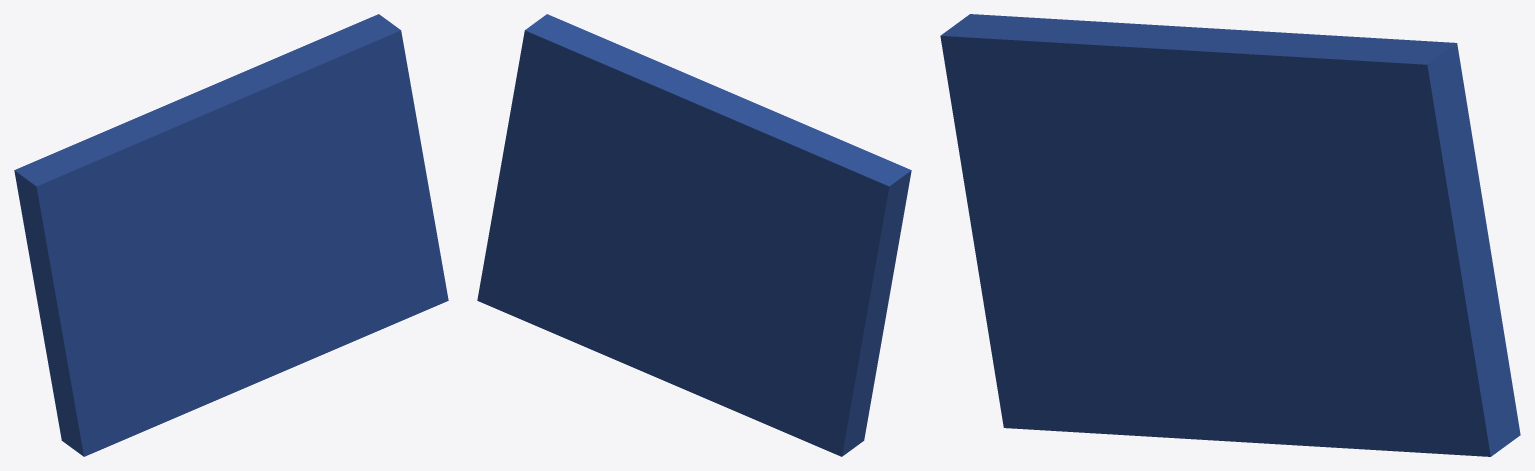
File: 02_small_blue_notebook.obj
3 renders of one model, left to right at view 1: azimuth 30°, elevation 25°; view 2: azimuth 150°, elevation 25°; view 3: azimuth 330°, elevation 25°, orthographic. The views are drawn at different scales.
Parts seen in each view (by area): view 1: small_blue_notebook_cover; view 2: small_blue_notebook_cover; view 3: small_blue_notebook_cover.
Boxes of the visible parts, box(x1,y1,x2,y2) form: small_blue_notebook_cover: box(14, 14, 448, 456); small_blue_notebook_cover: box(477, 14, 911, 456); small_blue_notebook_cover: box(940, 14, 1520, 456).
Bounding box in the file's own units: 0.128 × 0.1037 × 0.012.
